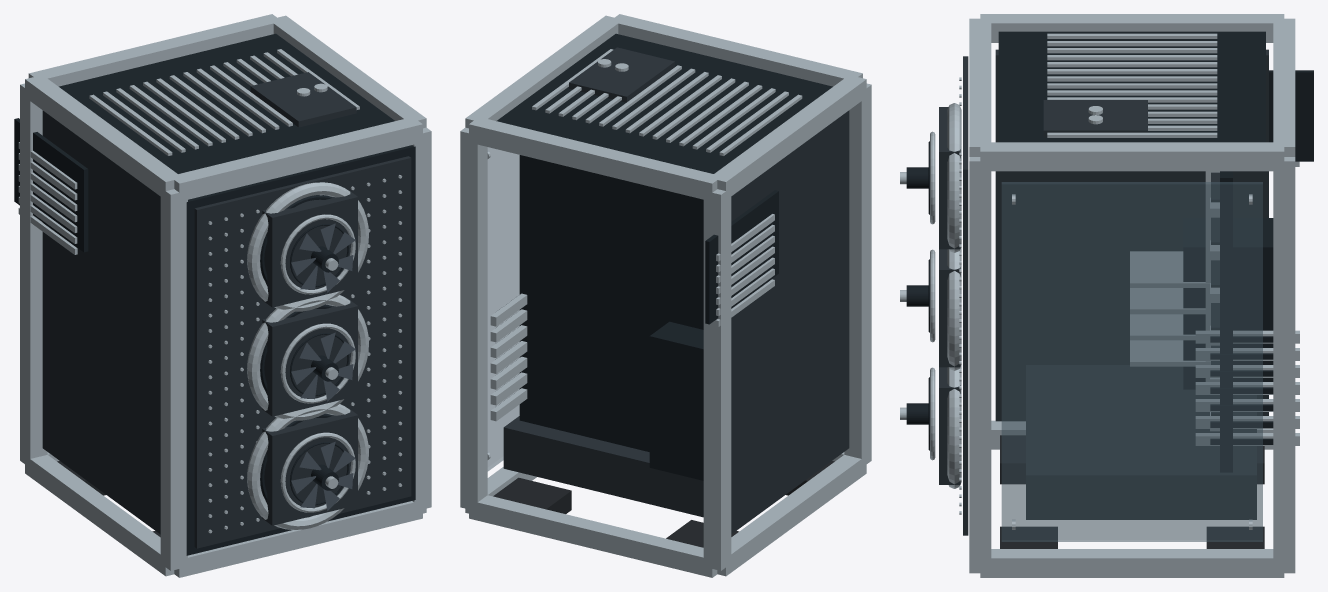
File: compact-itx.glb
3 renders of one model, left to right at view 1: azimuth 30°, elevation 25°; view 2: azimuth 150°, elevation 25°; view 3: azimuth 270°, elevation 25°, orthographic. The views are drawn at different scales.
Parts seen in each view (by area): view 1: compact-itx; view 2: compact-itx; view 3: compact-itx.
Part boxes in pixels (left/top/right/bottom): compact-itx: left=14, top=14, right=431, bottom=577; compact-itx: left=460, top=14, right=871, bottom=577; compact-itx: left=900, top=14, right=1313, bottom=577.
Bounding box in the file's own units: 1.12 × 1.67 × 1.43.
